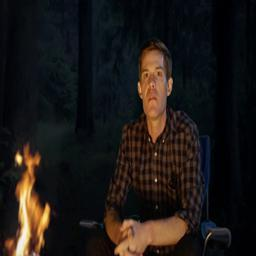fire: (4, 144, 52, 256)
